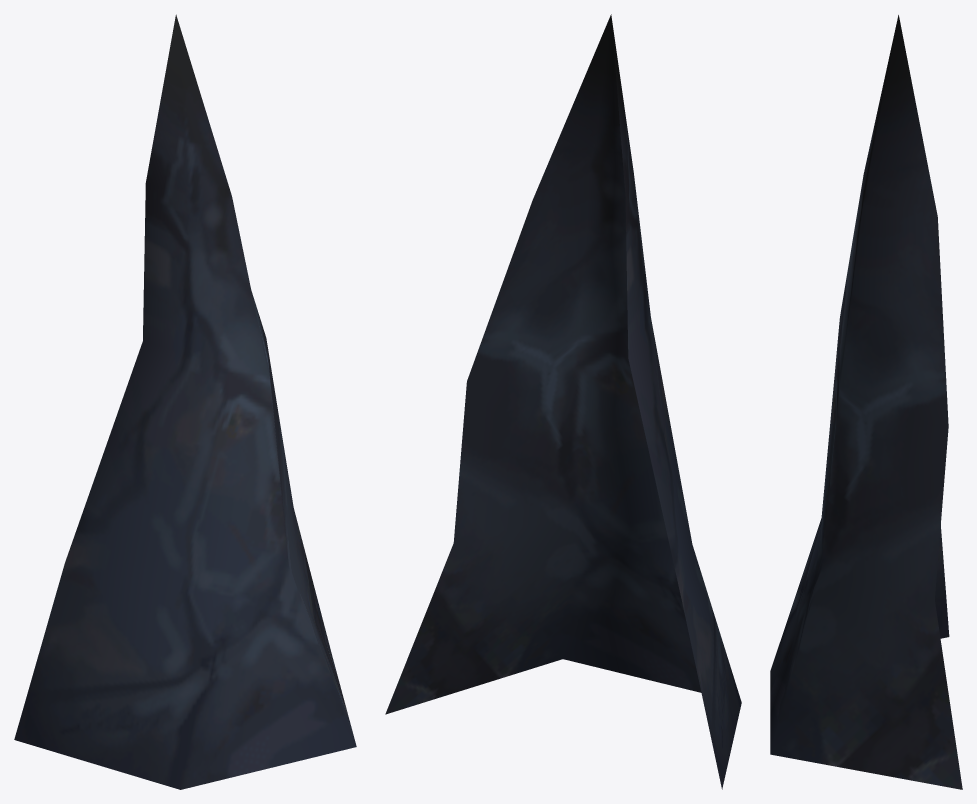
The model's file is sn_jiguan_shanshi_003.FBX.
3 views of the same model, side by side, from view 1: azimuth 30°, elevation 25°; view 2: azimuth 150°, elevation 25°; view 3: azimuth 270°, elevation 25° (orthographic). The views are drawn at different scales.
Visible parts, largest first — view 1: sn_jiguan_shanshi_003; view 2: sn_jiguan_shanshi_003; view 3: sn_jiguan_shanshi_003.
Boxes of the visible parts, x1=… form: sn_jiguan_shanshi_003: x1=14, y1=14, x2=356, y2=789; sn_jiguan_shanshi_003: x1=385, y1=14, x2=741, y2=789; sn_jiguan_shanshi_003: x1=770, y1=15, x2=962, y2=789.
Bounding box in the file's own units: 227 × 476 × 121.
